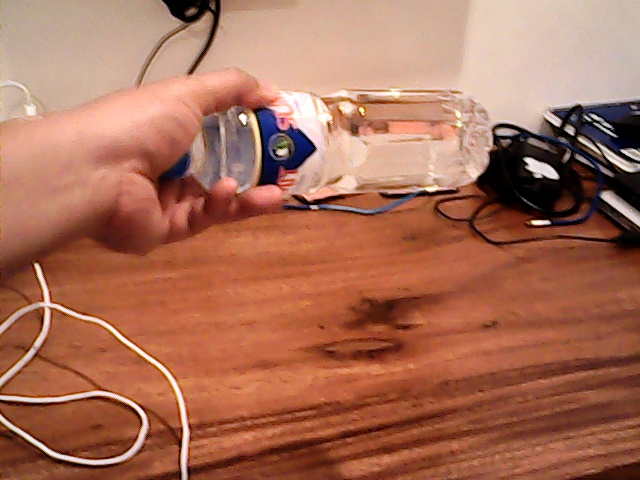Summit Water: (160, 76, 488, 187)
